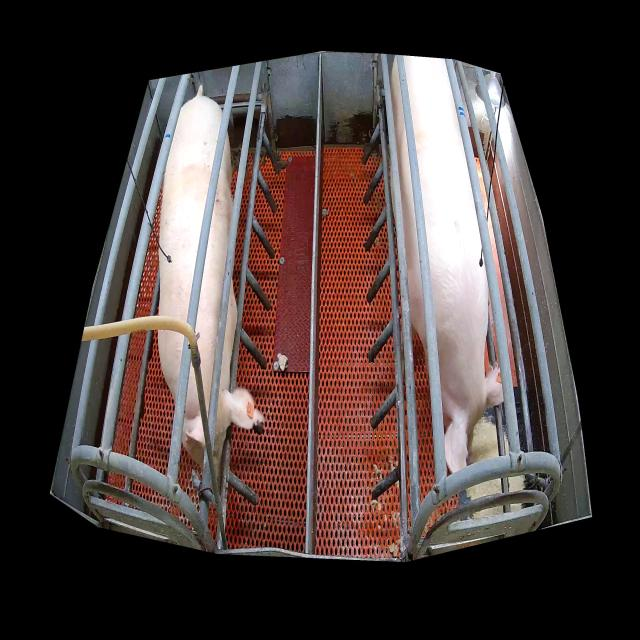pig: (390, 57, 504, 474), (158, 97, 264, 492)
